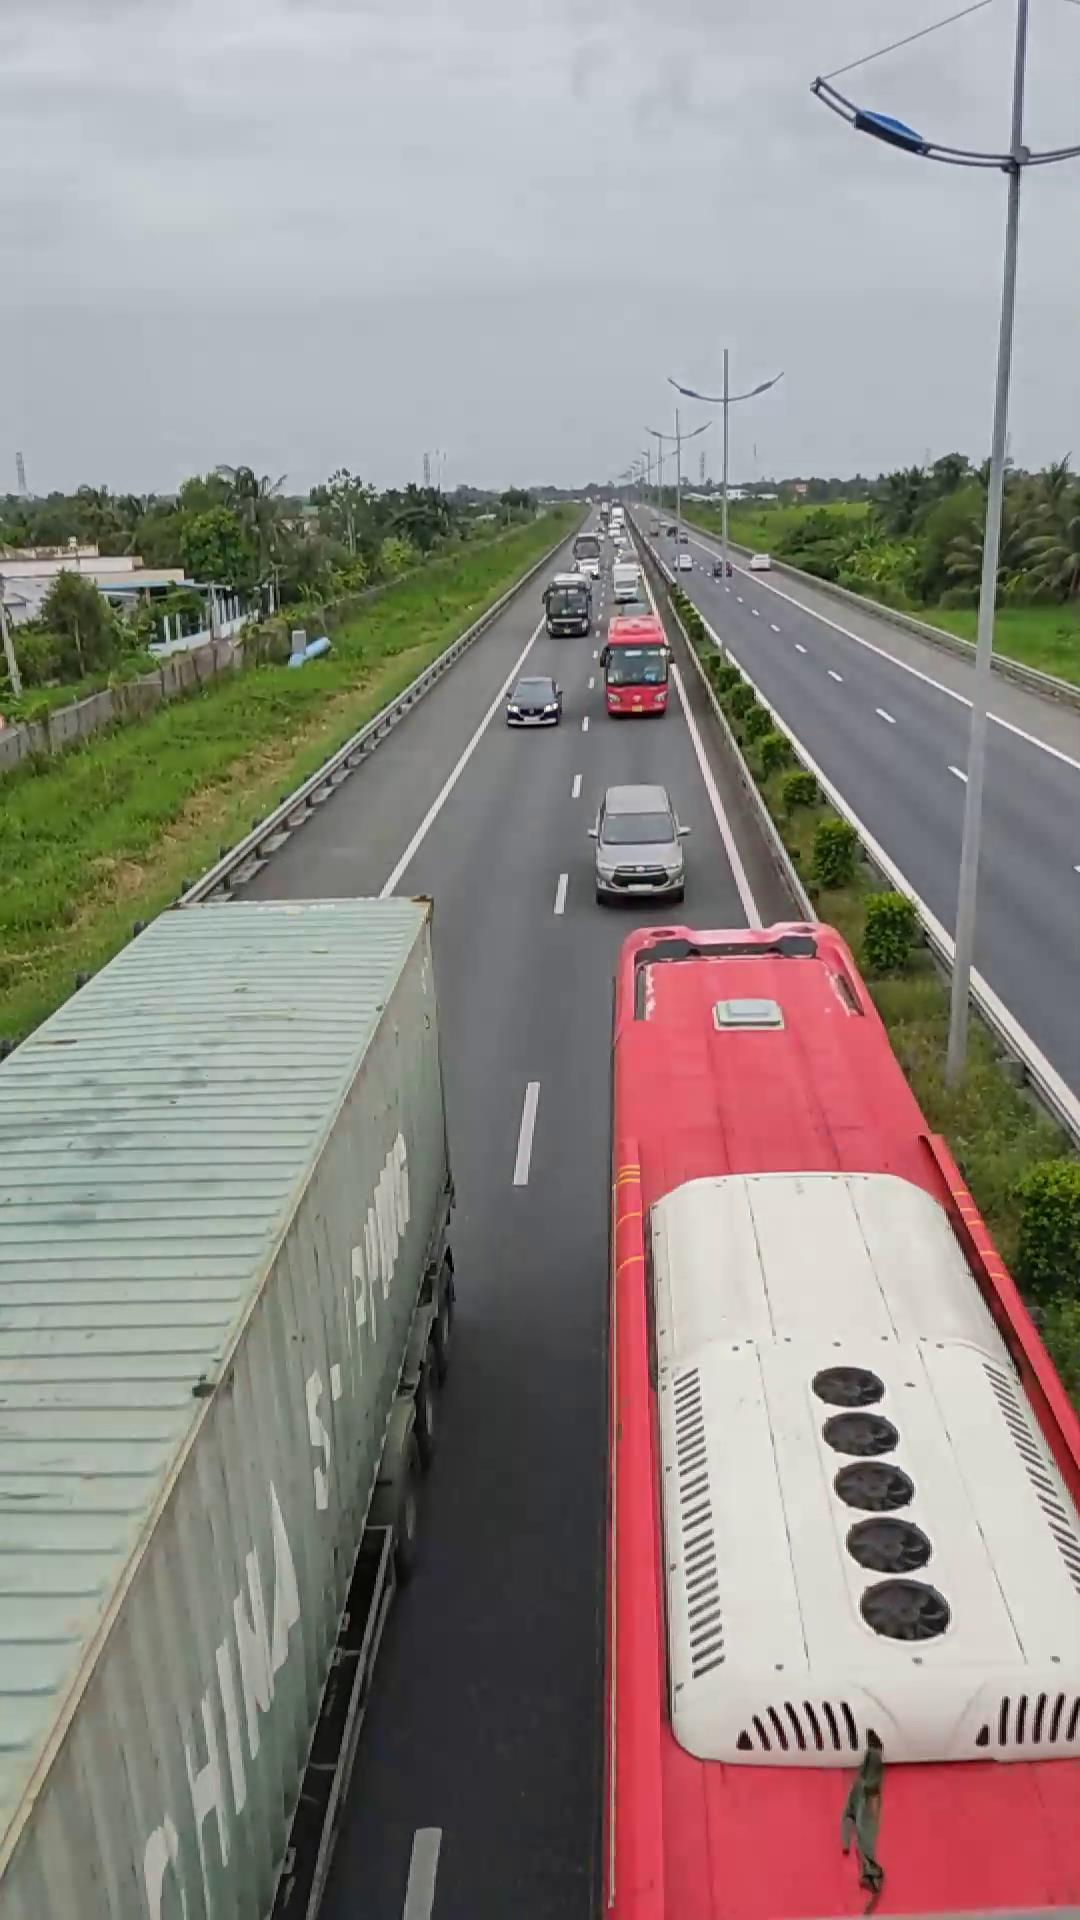bus: (602, 915, 1070, 1909)
car: (586, 783, 689, 903)
container: (0, 891, 466, 1918)
